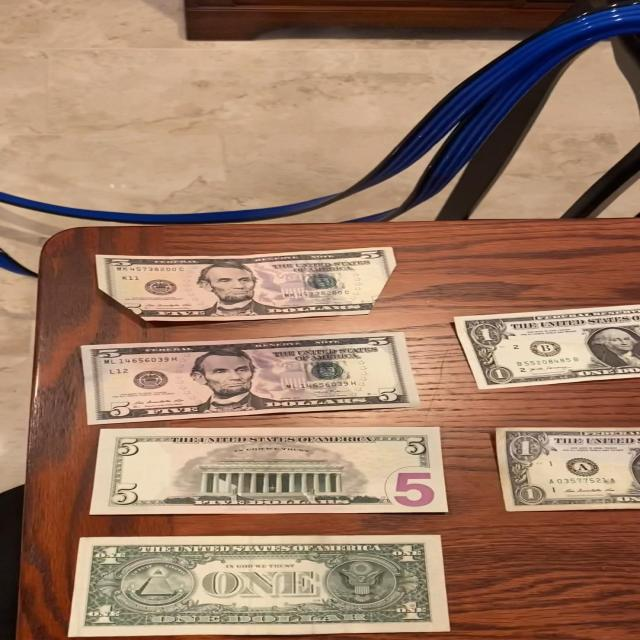1-Back: (68, 530, 460, 640)
1-Front: (451, 301, 640, 395), (487, 428, 640, 515)
5-Back: (89, 423, 447, 519)
5-Front: (79, 331, 421, 428), (93, 246, 410, 325)
